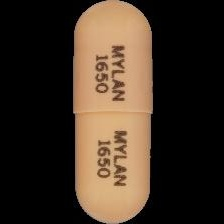51079-584: (0, 0, 224, 224)
